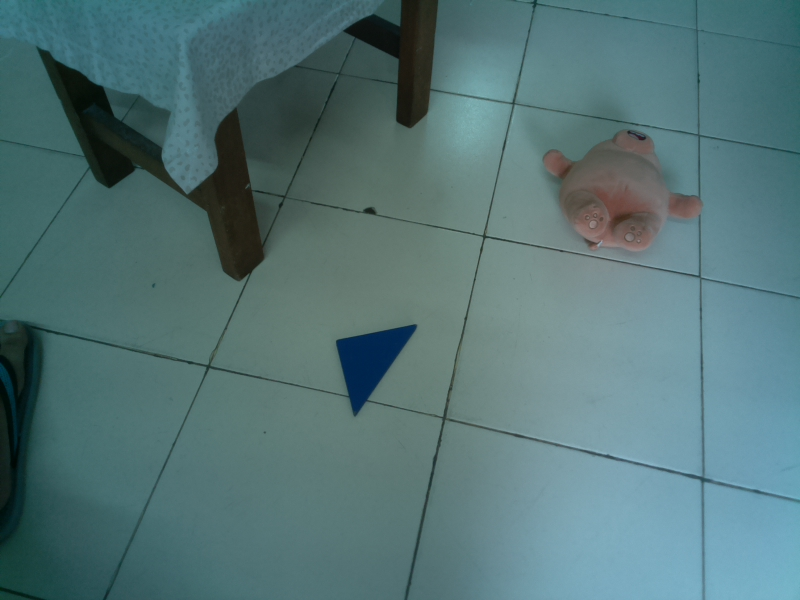Triangle: (331, 321, 426, 420)
